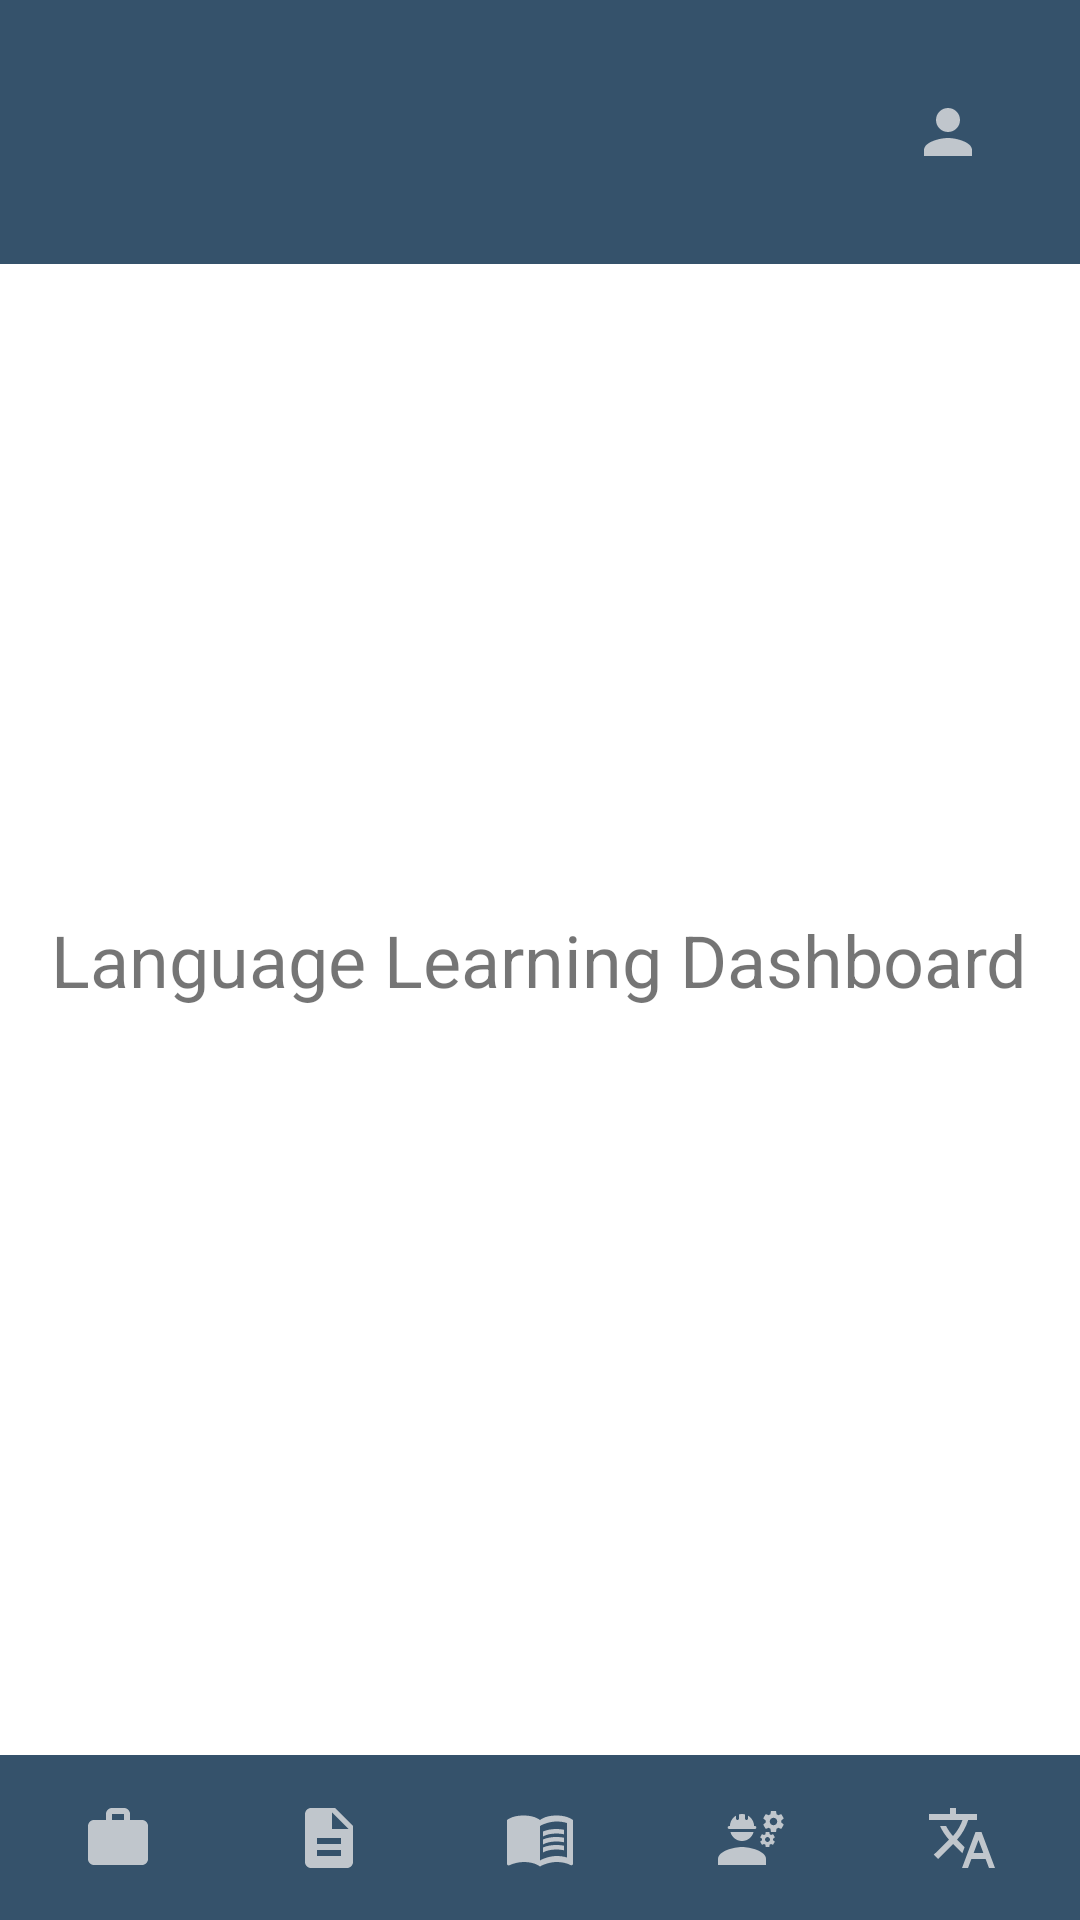

Locate icon controls on the screen. Image size 1080 x 1920, boxes as (x1=x1, y1=y1, x2=x2, y2=y2).
Career Guidelines: (x1=507, y1=1815, x2=573, y2=1867)
Job Preparation: (x1=88, y1=1808, x2=148, y2=1865)
Language Learning: (x1=929, y1=1808, x2=995, y2=1868)
Make CV: (x1=305, y1=1808, x2=353, y2=1868)
Profile: (x1=924, y1=108, x2=972, y2=156)
Skill Development: (x1=718, y1=1811, x2=784, y2=1865)
